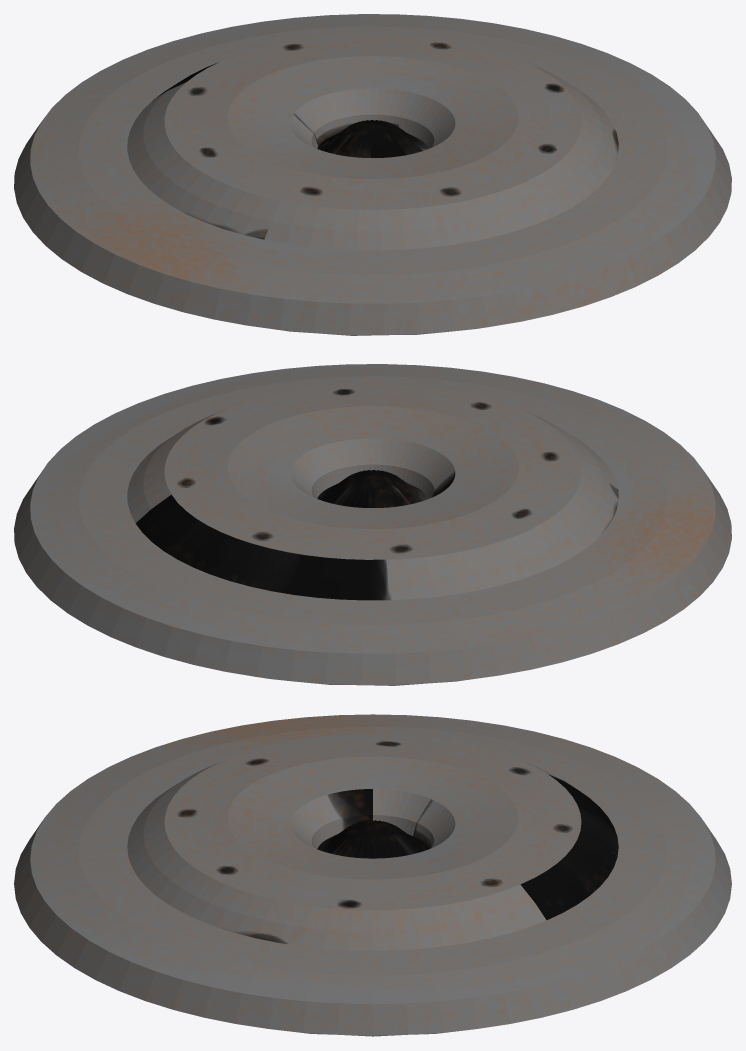
Rendered from DartTrap1.fbx.
3 renders of one model, top to bottom at view 1: azimuth 30°, elevation 25°; view 2: azimuth 150°, elevation 25°; view 3: azimuth 270°, elevation 25°, orthographic.
Parts seen in each view (by area): view 1: Cylinder.003; view 2: Cylinder.003; view 3: Cylinder.003.
Boxes of the visible parts, x1,y1,x2,y2 form: Cylinder.003: [14, 14, 731, 335]; Cylinder.003: [14, 364, 731, 685]; Cylinder.003: [14, 714, 731, 1036].
Bounding box in the file's own units: 0.0995 × 0.0151 × 0.0995.
